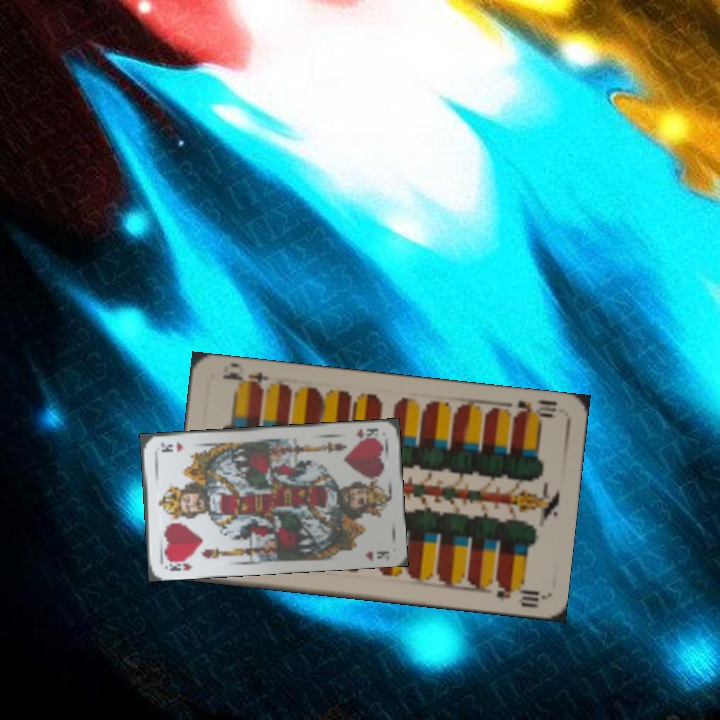E10: (503, 396, 559, 422)
HK: (162, 555, 195, 574), (353, 424, 383, 443)
